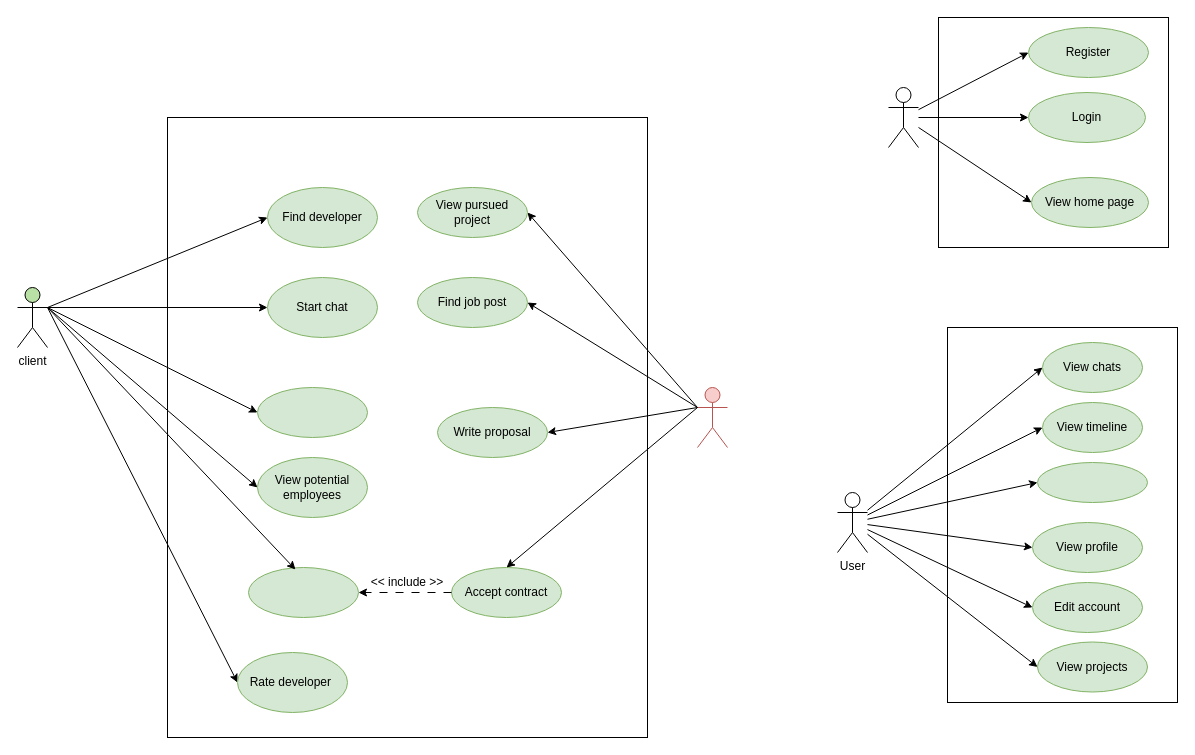
The diagram is 1195 pixels wide and 755 high, and some of its shapes have lost their labels. The shapes that lost their labels are listed below. From the top down, each one's centre as x and y in pixels, then its label:
point 903,117: Guest
point 312,412: Place proposal
point 712,417: developer
point 1092,482: Send message
point 303,592: Propose contract
